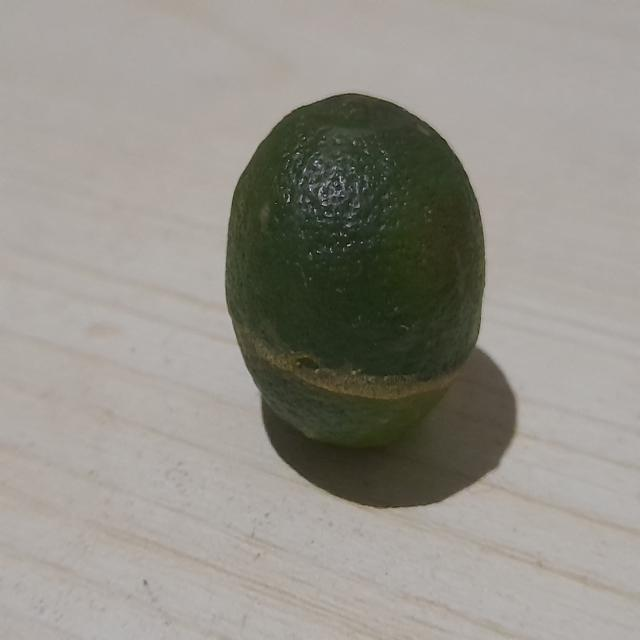thrips: (221, 84, 496, 478)
